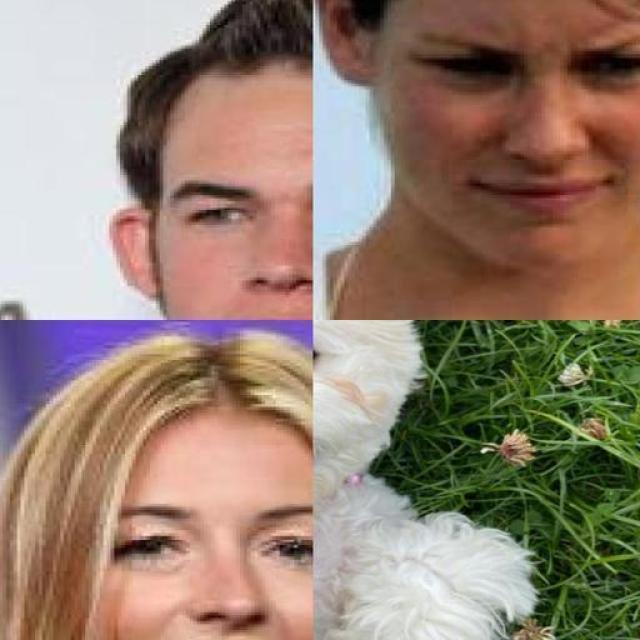bareface: (377, 0, 640, 284)
